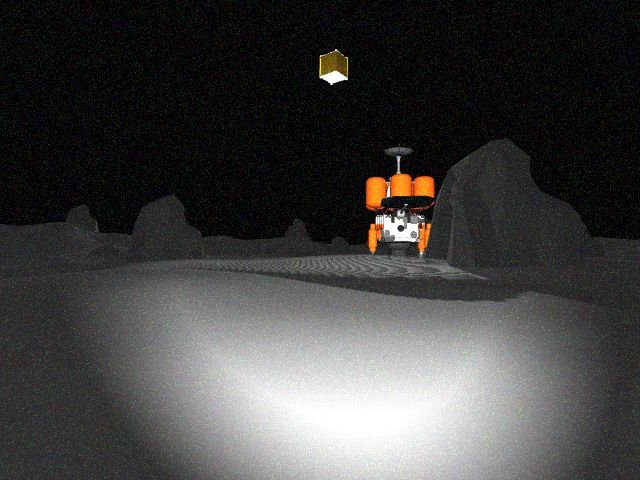cubesat: (311, 42, 357, 93)
